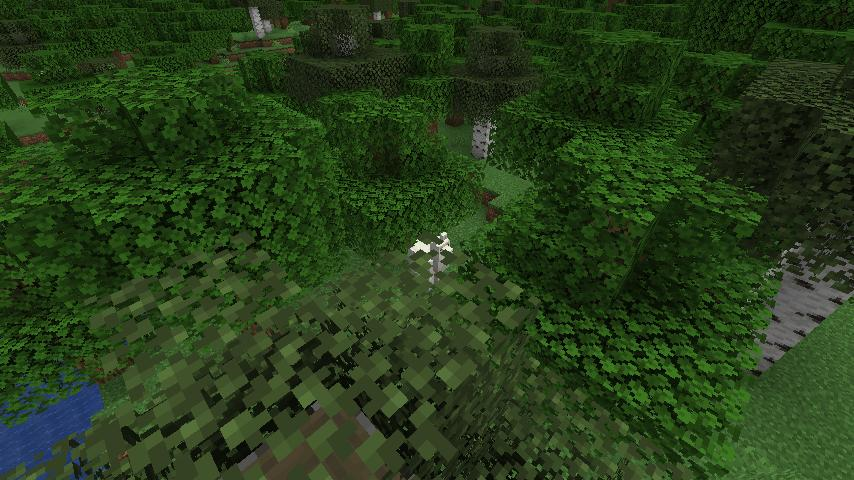llama: (406, 230, 454, 287)
